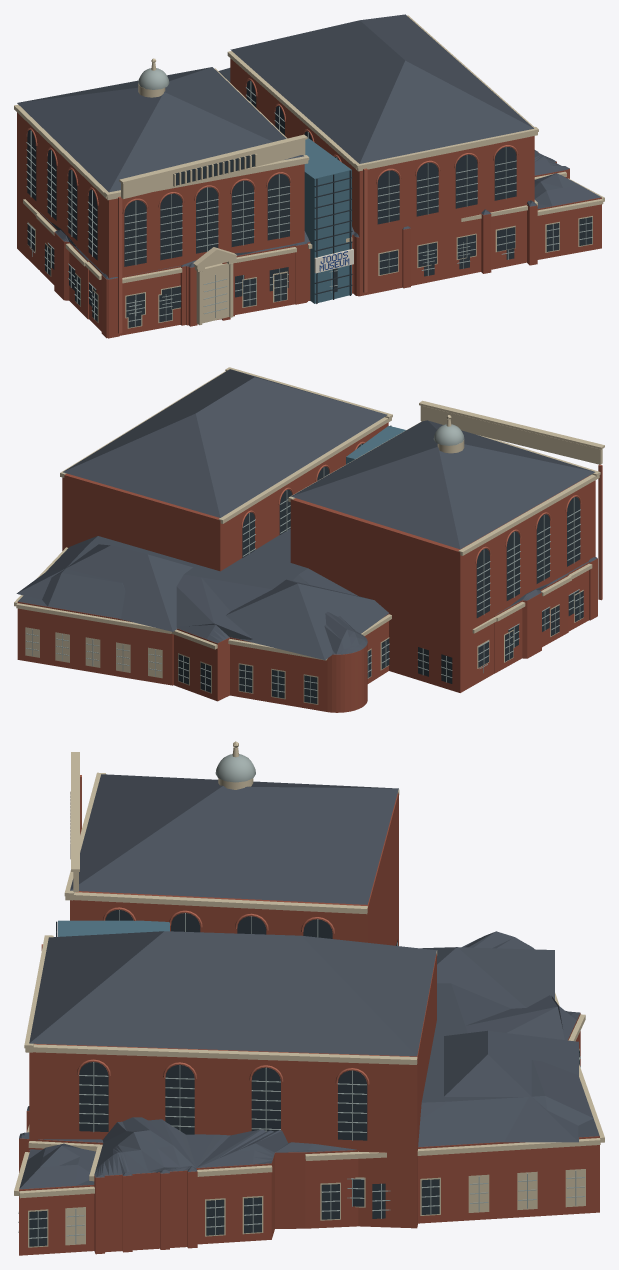
Rendered from jewish-museum.glb.
3 renders of one model, top to bottom at view 1: azimuth 30°, elevation 25°; view 2: azimuth 150°, elevation 25°; view 3: azimuth 270°, elevation 25°, orthographic. The views are drawn at different scales.
Visible parts, largest first — view 1: jewish-museum; view 2: jewish-museum; view 3: jewish-museum.
Boxes of the visible parts, x1,y1,x2,y2 form: jewish-museum: [14, 14, 604, 338]; jewish-museum: [14, 367, 604, 712]; jewish-museum: [14, 741, 604, 1255].
Bounding box in the file's own units: 50.14 × 22.26 × 42.21.
